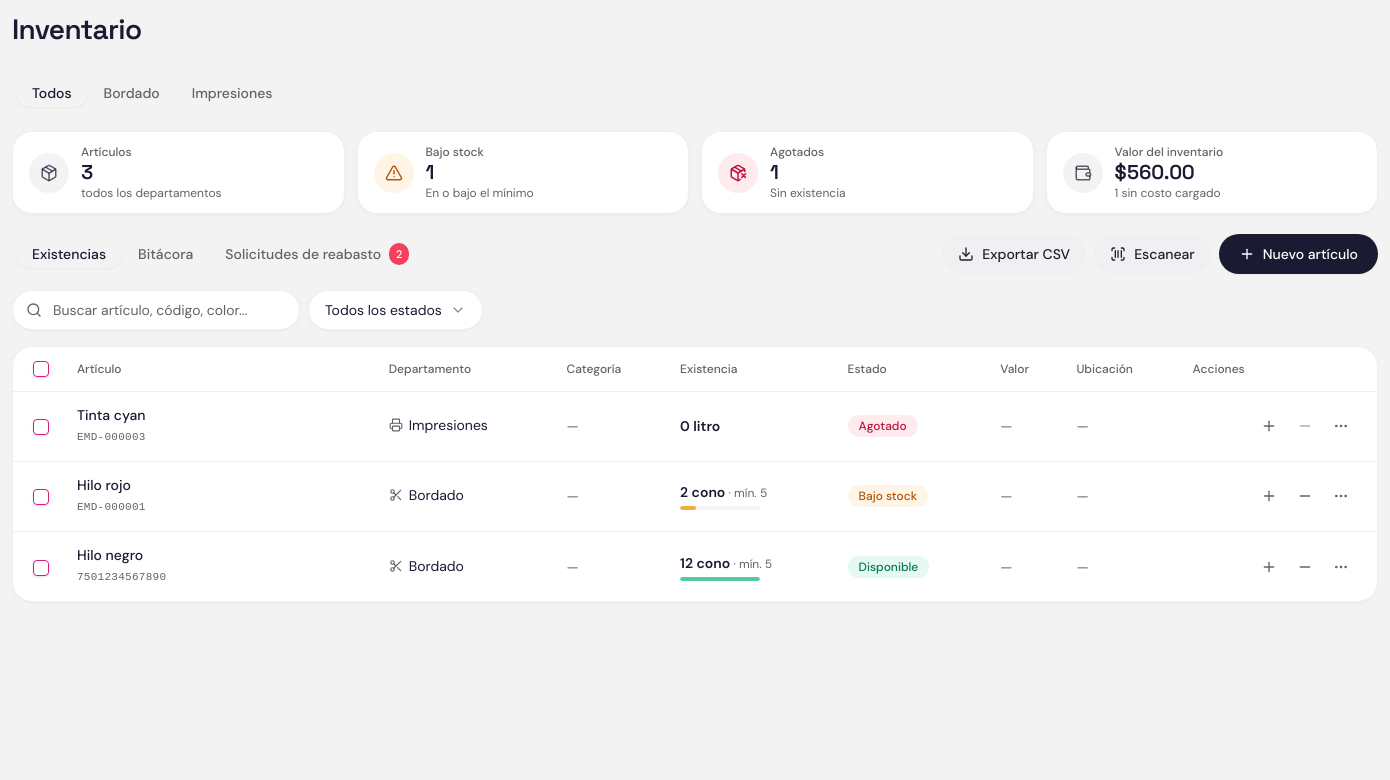
InventarioPage › el buscador encuentra por código de barras
In the field named "Buscar en el inventario": (156, 310) [12,290,300,330], type "750123"
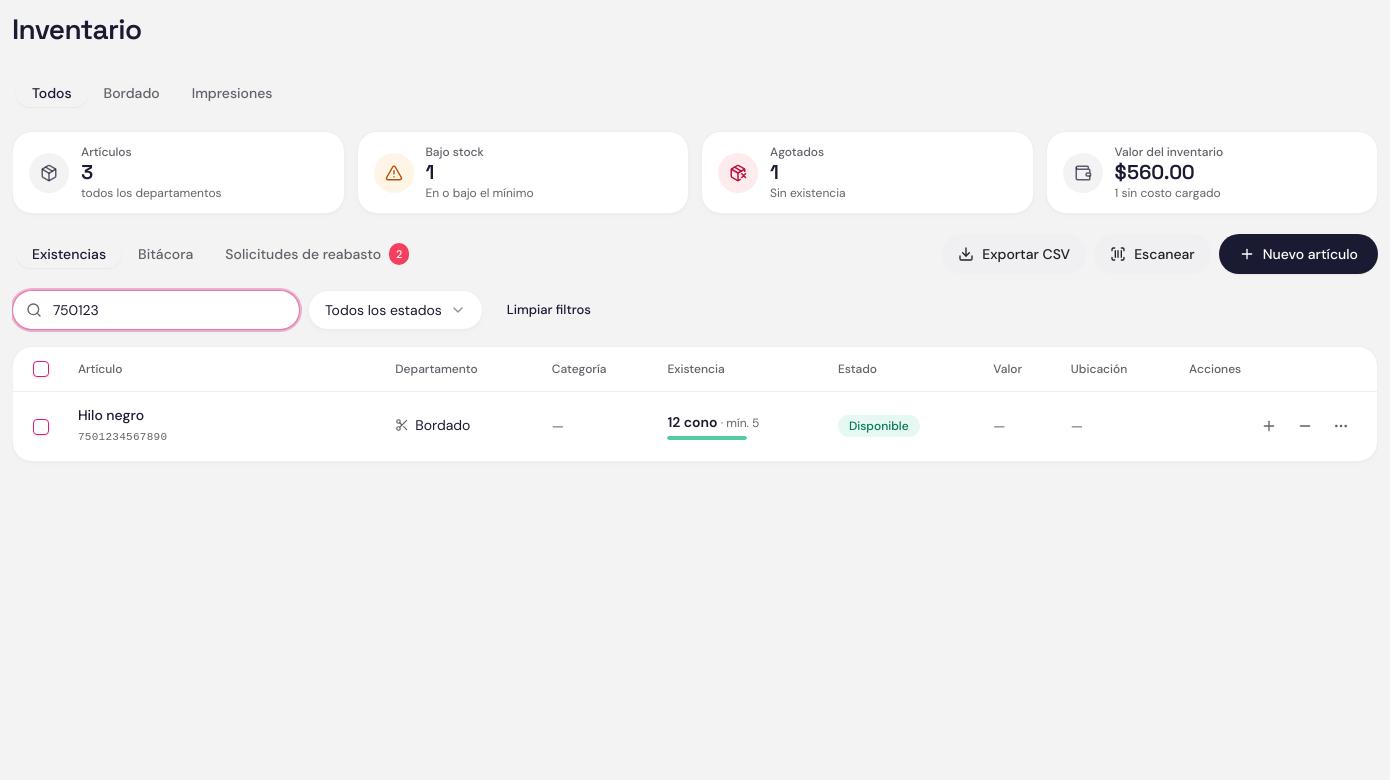
Expected: the text "Hilo negro" is shown, [78,406,144,424]
Now the text "Hilo rojo" is gone
